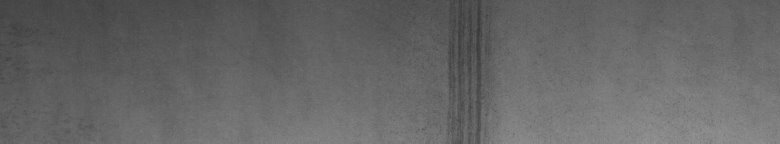ka: (439, 4, 488, 136)
